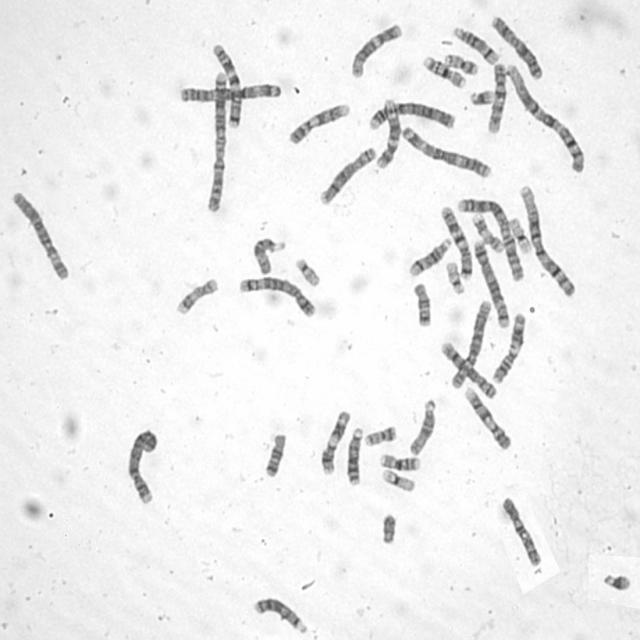A1: (503, 60, 587, 174), (516, 181, 578, 299)
A2: (455, 193, 527, 283), (203, 67, 229, 215)
A3: (398, 122, 493, 180), (176, 80, 284, 105)
B4: (365, 98, 457, 132), (124, 425, 161, 506)
B5: (236, 272, 318, 319), (472, 236, 511, 330)
C10: (499, 493, 543, 568), (484, 59, 508, 134)
C11: (489, 310, 528, 384), (318, 408, 352, 477)
C12: (348, 20, 404, 78), (373, 95, 402, 171)
C6: (10, 187, 72, 283), (448, 297, 493, 390)
C7: (209, 40, 244, 130), (438, 203, 473, 280)
C8: (317, 143, 378, 207), (439, 340, 499, 400)
C9: (462, 384, 512, 452), (285, 100, 352, 146)
D13: (252, 593, 308, 635), (342, 424, 363, 487)
D14: (451, 23, 500, 66), (406, 235, 453, 278)
D15: (406, 395, 438, 457), (251, 233, 287, 276)
E16: (420, 52, 467, 90), (378, 450, 422, 473)
E17: (173, 274, 220, 317), (470, 210, 504, 255)
E18: (262, 430, 288, 479), (412, 279, 434, 329)
F19: (508, 213, 534, 256), (378, 466, 416, 494)
F20: (442, 51, 480, 76), (362, 422, 398, 448)
G21: (600, 569, 632, 592), (468, 86, 495, 106)
G22: (292, 254, 323, 288), (443, 257, 466, 296)
X: (488, 12, 545, 81)
Y: (378, 510, 398, 546)
